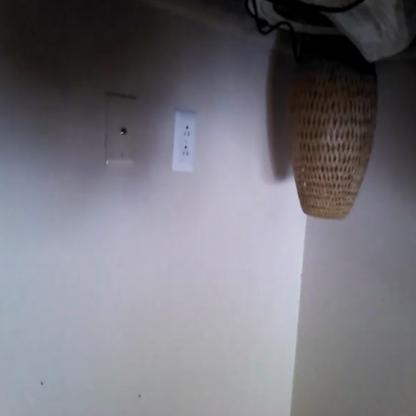OUTLET: (173, 112, 197, 172)
